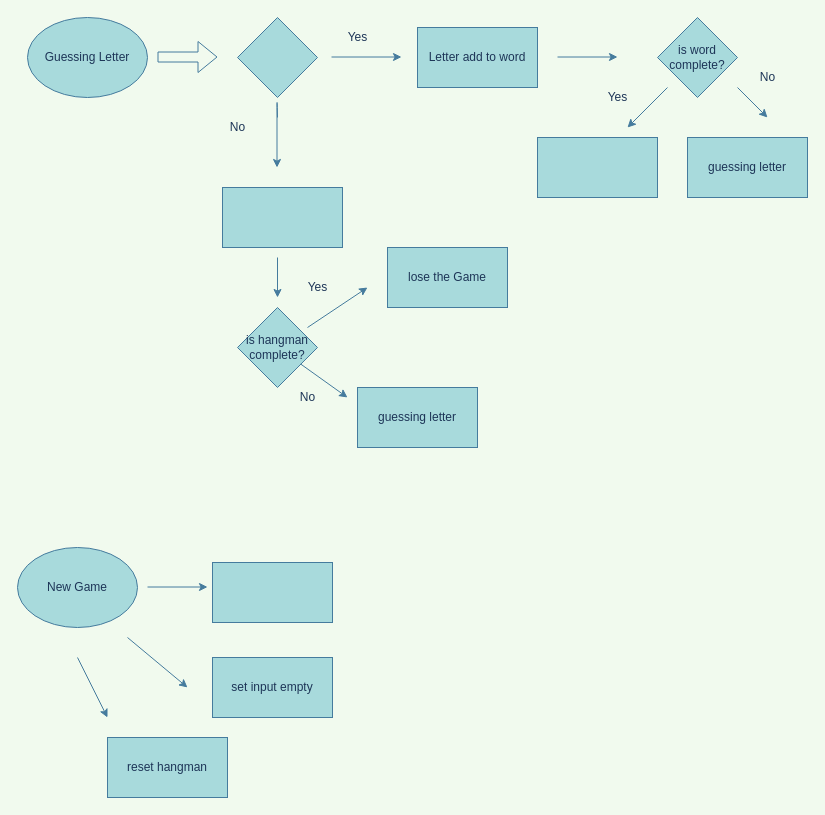
Image size: 825x815. Some labels were removed from this diagram. The shapes that lost their labels are listed below. From the top down, each one's centre as x and y in pixels, then its label:
At (277,57): "is it in the word?".
At (597,167): "Win the game".
At (282,217): "add a line of hangman".
At (272,592): "generate random word".
